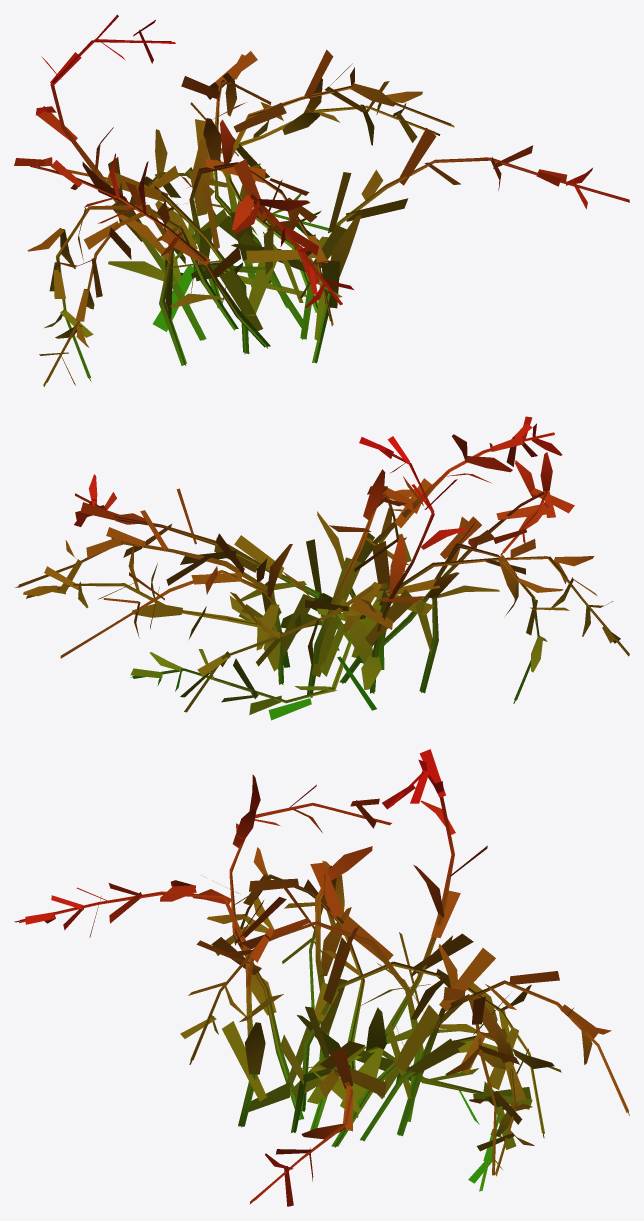
File: Var11_LOD3.fbx
3 renders of one model, top to bottom at view 1: azimuth 30°, elevation 25°; view 2: azimuth 150°, elevation 25°; view 3: azimuth 270°, elevation 25°, orthographic. The views are drawn at different scales.
Parts seen in each view (by area): view 1: _z2e2_Var11_LOD3; view 2: _z2e2_Var11_LOD3; view 3: _z2e2_Var11_LOD3.
Boxes of the visible parts, <box> form: _z2e2_Var11_LOD3: <box>14,14,629,386</box>; _z2e2_Var11_LOD3: <box>14,416,629,720</box>; _z2e2_Var11_LOD3: <box>14,749,629,1206</box>.
Bounding box in the file's own units: 35.75 × 18.28 × 31.64.
